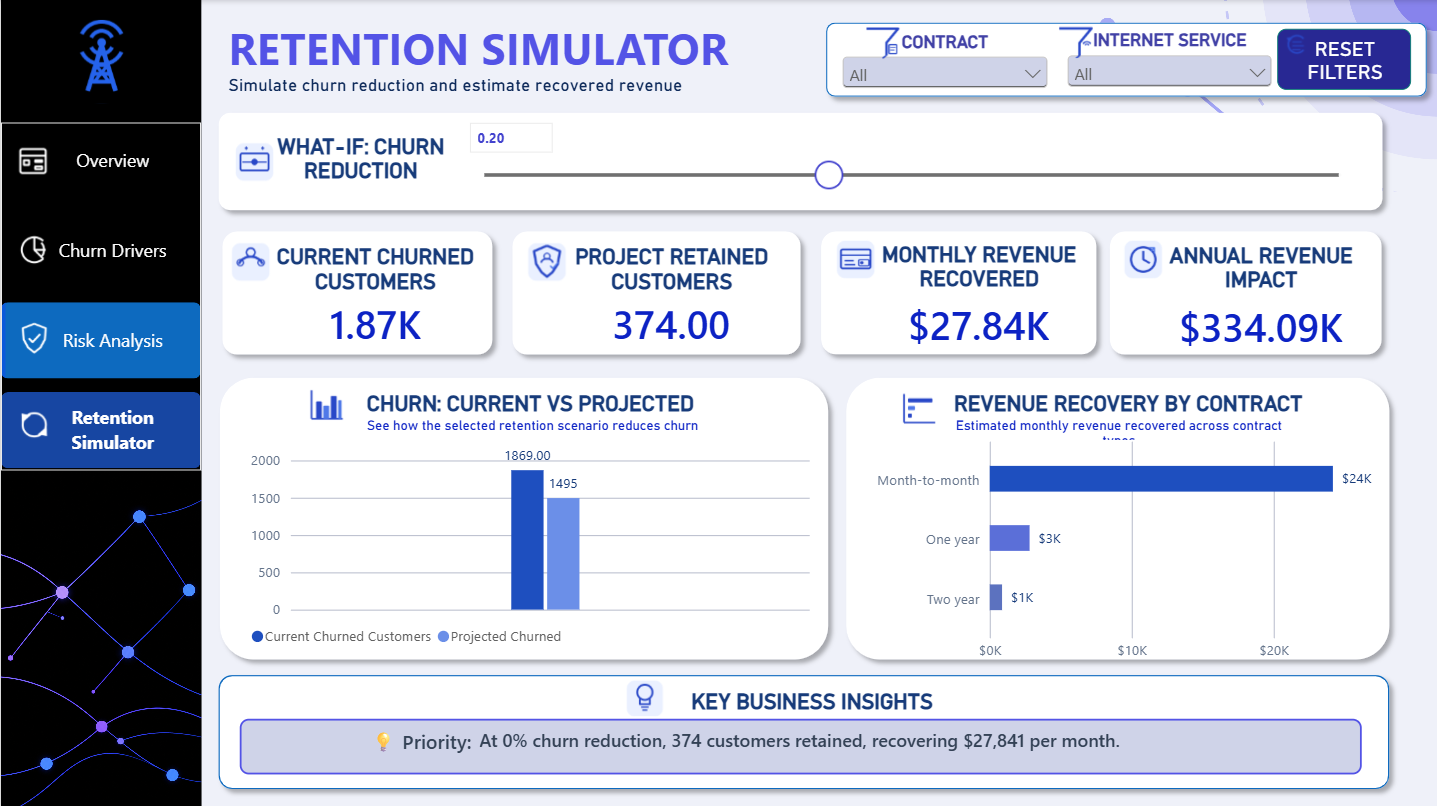

The page's visual inventory and layout, read from the dashboard file:
{"tool":"powerbi","page":{"name":"Retention Simulator","canvas":[1280,720],"ordinal":3},"visuals":[{"type":"image","box":[947,0,333,170.1],"z":0},{"type":"shape","box":[0,0,178.6,720.2],"z":1000},{"type":"textbox","title":"RETENTION SIMULATOR","box":[202.7,16.9,495.8,51.9],"z":2000},{"type":"textbox","title":"Simulate churn reduction and estimate recovered revenue","box":[202.7,66.4,540.5,25.3],"z":3000},{"type":"shape","box":[188.5,197.2,258.5,127.7],"z":4000},{"type":"cardVisual","title":"CURRENT CHURNED CUSTOMERS","fields":{"Data":["_Measures.Current Churned Customers"]},"box":[238.9,206.3,188.2,114.6],"z":5000},{"type":"shape","box":[446.9,197.2,274.6,127.7],"z":6000},{"type":"shape","box":[978.5,197.2,260,127.7],"z":7000},{"type":"shape","box":[721.4,197.1,263.1,127.5],"z":8000},{"type":"shape","box":[185.8,326.9,559.8,269],"z":9000},{"type":"shape","box":[743.2,326.9,501.9,269],"z":10000},{"type":"actionButton","box":[199.3,206.1,46.2,55],"z":11000},{"type":"actionButton","box":[463.3,206.3,46.2,55],"z":12000},{"type":"actionButton","box":[738.3,203.9,46.2,55],"z":13000},{"type":"actionButton","box":[994.1,203.9,46.2,55],"z":14000},{"type":"shape","box":[184.6,91.7,1054.4,105],"z":15000},{"type":"textbox","title":"WHAT-IF: CHURN REDUCTION","box":[222,119.4,197.9,45.8],"z":16000},{"type":"slicer","fields":{"Values":["Churn Reduction.Churn Reduction"]},"box":[410.2,105,800,76.4],"z":17000},{"type":"cardVisual","title":"PROJECT RETAINED CUSTOMERS","fields":{"Data":["_Measures.Projected Retained Customers"]},"box":[510.3,206.3,174.9,114.6],"z":18000},{"type":"cardVisual","title":"MONTHLY REVENUE RECOVERED","fields":{"Data":["_Measures.Monthly Revenue Recovered"]},"box":[784.2,203.9,174.9,120.6],"z":19000},{"type":"cardVisual","title":"ANNUAL REVENUE IMPACT","fields":{"Data":["_Measures.Annual Revenue Impact"]},"box":[1032.7,205.1,178.6,121.9],"z":20000},{"type":"clusteredColumnChart","title":"CHURN: CURRENT VS PROJECTED","fields":{"Y":["_Measures.Current Churned Customers","_Measures.Projected Churned"]},"box":[202.7,336.6,517.6,243.7],"z":21000},{"type":"clusteredBarChart","title":"REVENUE RECOVERY BY CONTRACT","fields":{"Category":["Telco_Churn.Contract"],"Y":["_Measures.Monthly Revenue Recovered"]},"box":[752.8,336.6,482.6,255.8],"z":22000},{"type":"shape","box":[184.6,592.4,1060.5,119.4],"z":23000},{"type":"cardVisual","title":"MONTHLY REVENUE RECOVERED","fields":{"Data":["_Measures.Revenue Impact Summary"]},"box":[212.3,640.6,998.9,49.5],"z":24000},{"type":"textbox","title":"💡 Priority:","box":[323,638,117,39.8],"z":25000},{"type":"textbox","title":"KEY BUSINESS INSIGHTS","box":[603.2,612.9,237.7,25.3],"z":26000},{"type":"textbox","title":"See how the selected retention scenario reduces churn","box":[313.6,371.8,319.1,20],"z":27000},{"type":"actionButton","box":[551.3,596,44.6,42.2],"z":28000},{"type":"textbox","title":"Estimated monthly revenue recovered across contract types","box":[835.5,371.8,319.1,20],"z":29000},{"type":"actionButton","box":[266.6,333,46.2,55],"z":30000},{"type":"actionButton","box":[795,336.6,46.2,55],"z":31000},{"type":"actionButton","box":[202.7,117,46.2,55],"z":32000},{"type":"pageNavigator","box":[0,108.6,178.6,311],"z":33000},{"type":"actionButton","box":[6,117,45.8,53.1],"z":34000},{"type":"actionButton","box":[6.2,195.4,45.8,53.1],"z":35000},{"type":"actionButton","box":[6.2,275.4,45.8,53.1],"z":36000},{"type":"actionButton","box":[6.2,352.3,45.8,53.1],"z":37000},{"type":"actionButton","box":[14.5,6,149.6,98.9],"z":38000},{"type":"image","box":[0,419.6,178.6,300.4],"z":39000},{"type":"shape","box":[726,11,553,84],"z":40000},{"type":"slicer","title":"CONTRACT","fields":{"Values":["Telco_Churn.Contract"]},"box":[745,20,191.8,67.6],"z":41000},{"type":"slicer","title":"INTERNET SERVICE","fields":{"Values":["Telco_Churn.InternetService"]},"box":[945,19.2,191.7,67.5],"z":42000},{"type":"actionButton","title":"RESET FILTERS","box":[1136.7,26,119.2,54.2],"z":43000},{"type":"actionButton","box":[761.3,13.3,47.1,41],"z":44000},{"type":"actionButton","box":[932.6,13.3,48.3,38.6],"z":45000},{"type":"actionButton","box":[1136.7,13.3,35,40.8],"z":46000}]}

Visuals, with their boxes on the page's 1280x720 design canvas (x1, y1, x2, y2). These are canvas units, not pixel positions in the 1437x806 screenshot, which may show the page scaled, cropped or inside an application window:
image: bbox(947, 0, 1280, 170)
shape: bbox(0, 0, 179, 720)
"RETENTION SIMULATOR" textbox: bbox(203, 17, 698, 69)
"Simulate churn reduction and estimate recovered revenue" textbox: bbox(203, 66, 743, 92)
shape: bbox(188, 197, 447, 325)
"CURRENT CHURNED CUSTOMERS" cardVisual: bbox(239, 206, 427, 321)
shape: bbox(447, 197, 722, 325)
shape: bbox(978, 197, 1238, 325)
shape: bbox(721, 197, 984, 325)
shape: bbox(186, 327, 746, 596)
shape: bbox(743, 327, 1245, 596)
actionButton: bbox(199, 206, 246, 261)
actionButton: bbox(463, 206, 510, 261)
actionButton: bbox(738, 204, 784, 259)
actionButton: bbox(994, 204, 1040, 259)
shape: bbox(185, 92, 1239, 197)
"WHAT-IF: CHURN REDUCTION" textbox: bbox(222, 119, 420, 165)
slicer - Churn Reduction.Churn Reduction: bbox(410, 105, 1210, 181)
"PROJECT RETAINED CUSTOMERS" cardVisual: bbox(510, 206, 685, 321)
"MONTHLY REVENUE RECOVERED" cardVisual: bbox(784, 204, 959, 324)
"ANNUAL REVENUE IMPACT" cardVisual: bbox(1033, 205, 1211, 327)
"CHURN: CURRENT VS PROJECTED" clusteredColumnChart: bbox(203, 337, 720, 580)
"REVENUE RECOVERY BY CONTRACT" clusteredBarChart: bbox(753, 337, 1235, 592)
shape: bbox(185, 592, 1245, 712)
"MONTHLY REVENUE RECOVERED" cardVisual: bbox(212, 641, 1211, 690)
"💡 Priority:" textbox: bbox(323, 638, 440, 678)
"KEY BUSINESS INSIGHTS" textbox: bbox(603, 613, 841, 638)
"See how the selected retention scenario reduces churn" textbox: bbox(314, 372, 633, 392)
actionButton: bbox(551, 596, 596, 638)
"Estimated monthly revenue recovered across contract types" textbox: bbox(836, 372, 1155, 392)
actionButton: bbox(267, 333, 313, 388)
actionButton: bbox(795, 337, 841, 392)
actionButton: bbox(203, 117, 249, 172)
pageNavigator: bbox(0, 109, 179, 420)
actionButton: bbox(6, 117, 52, 170)
actionButton: bbox(6, 195, 52, 248)
actionButton: bbox(6, 275, 52, 328)
actionButton: bbox(6, 352, 52, 405)
actionButton: bbox(14, 6, 164, 105)
image: bbox(0, 420, 179, 720)
shape: bbox(726, 11, 1279, 95)
"CONTRACT" slicer: bbox(745, 20, 937, 88)
"INTERNET SERVICE" slicer: bbox(945, 19, 1137, 87)
"RESET FILTERS" actionButton: bbox(1137, 26, 1256, 80)
actionButton: bbox(761, 13, 808, 54)
actionButton: bbox(933, 13, 981, 52)
actionButton: bbox(1137, 13, 1172, 54)
